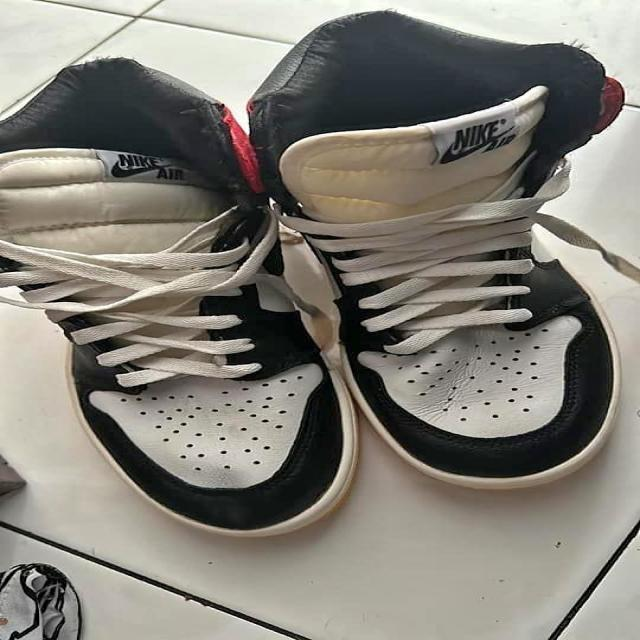nike fake jordan 1: (0, 55, 385, 541), (246, 13, 632, 491)
